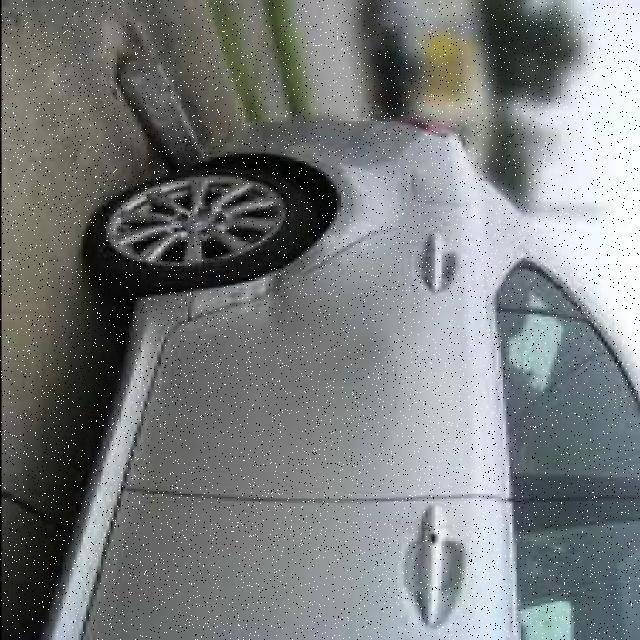damage: (160, 261, 420, 362)
